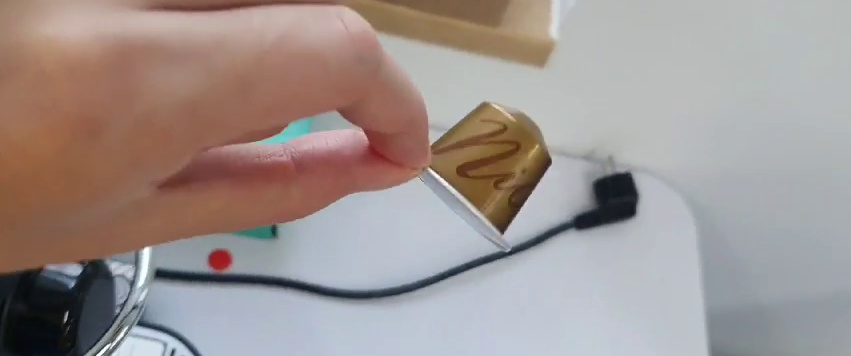capsule_9: (406, 95, 555, 258)
